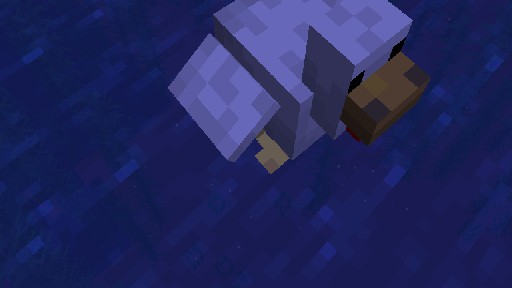chicken: (167, 0, 431, 174)
